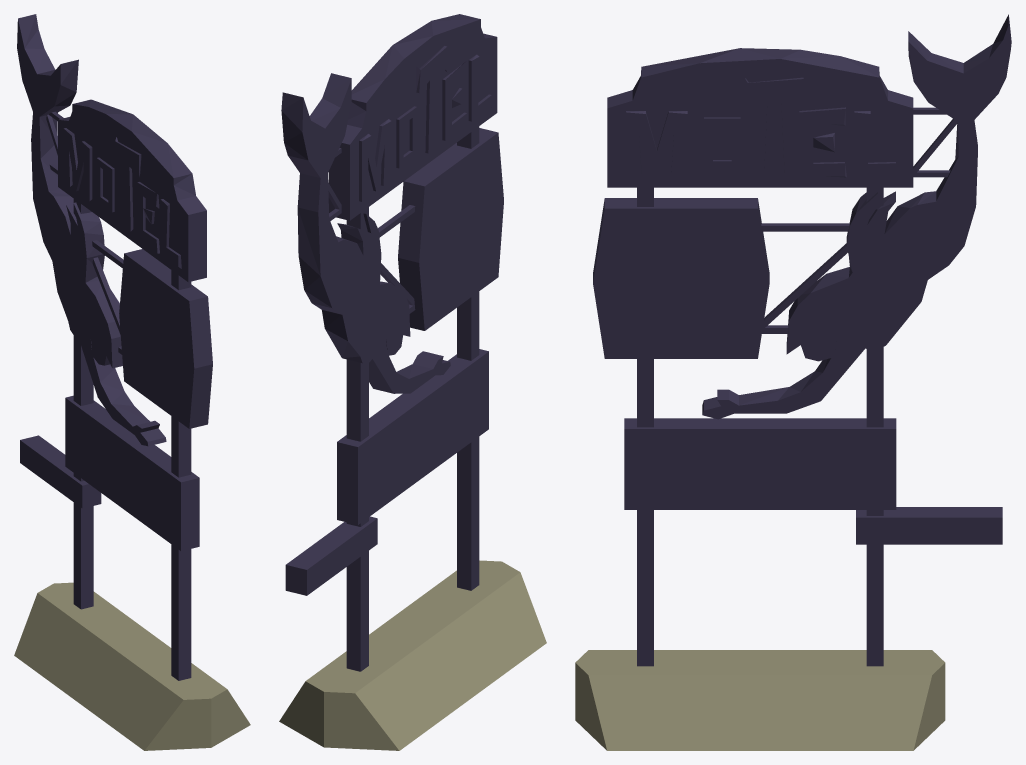
Rendered from motel-sign.zfix-v3.lod1.glb.
The picture shows the model from 3 angles, left to right: view 1: azimuth 30°, elevation 25°; view 2: azimuth 150°, elevation 25°; view 3: azimuth 270°, elevation 25°; orthographic projection. The views are drawn at different scales.
Parts seen in each view (by area): view 1: Object_16; view 2: Object_16; view 3: Object_16.
Boxes of the visible parts, <box> form: Object_16: <box>14,14,250,750</box>; Object_16: <box>279,14,546,750</box>; Object_16: <box>575,14,1011,750</box>.
Bounding box in the file's own units: 2.07 × 11.09 × 6.25.
